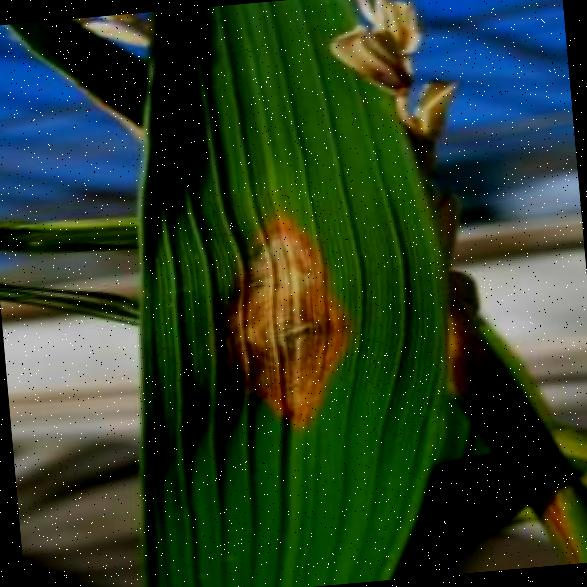Leaf_smut: (194, 186, 384, 486)
